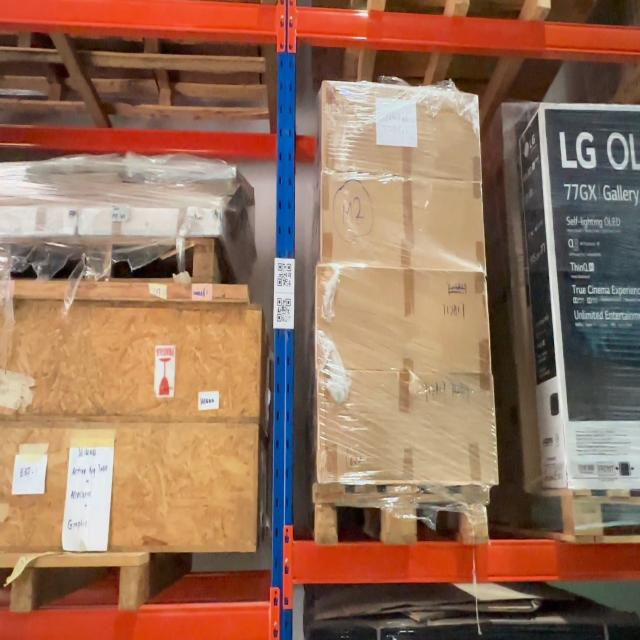box: (318, 374, 492, 484), (317, 271, 484, 367), (322, 184, 482, 263), (324, 94, 479, 175)
